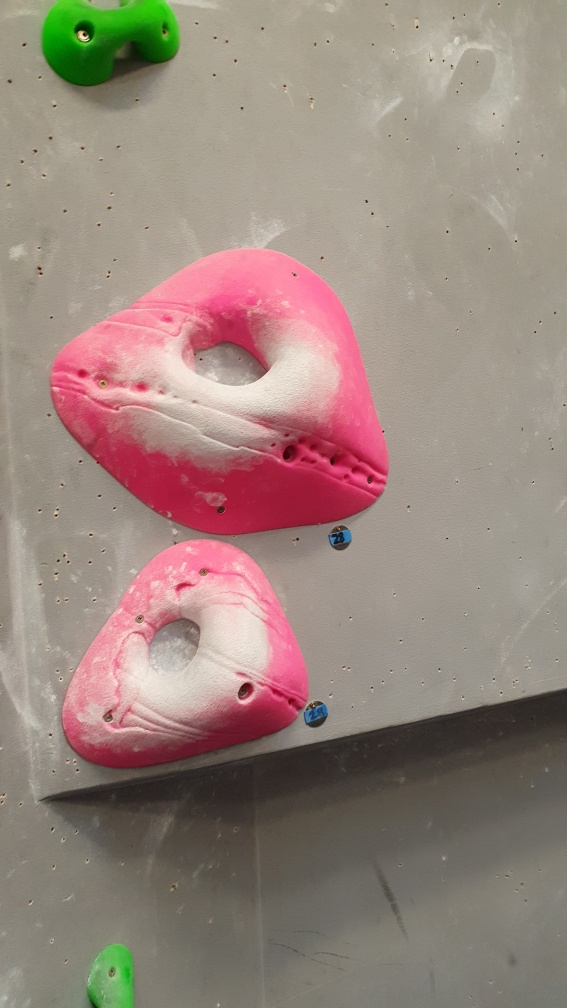Hand Start: (295, 696, 335, 732), (323, 519, 361, 556)
Pocket: (49, 242, 391, 538), (54, 536, 311, 771)
